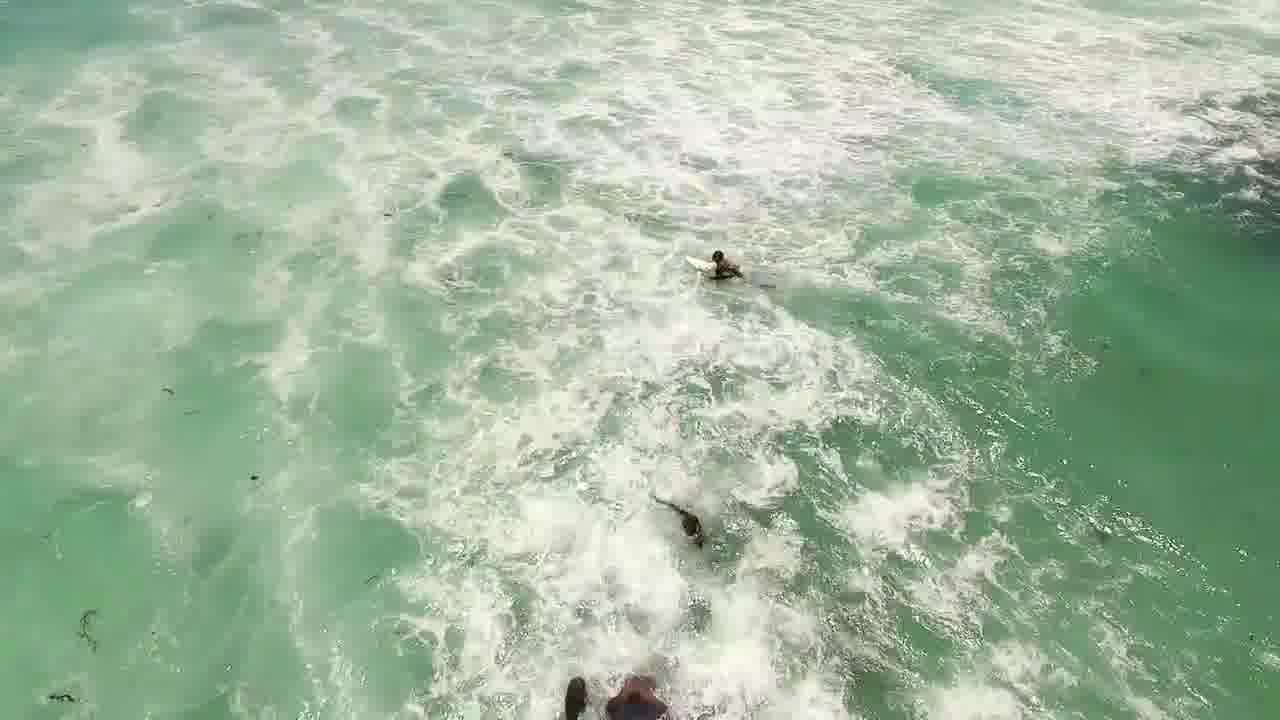swimmer: (641, 478, 719, 556), (689, 230, 749, 286)
